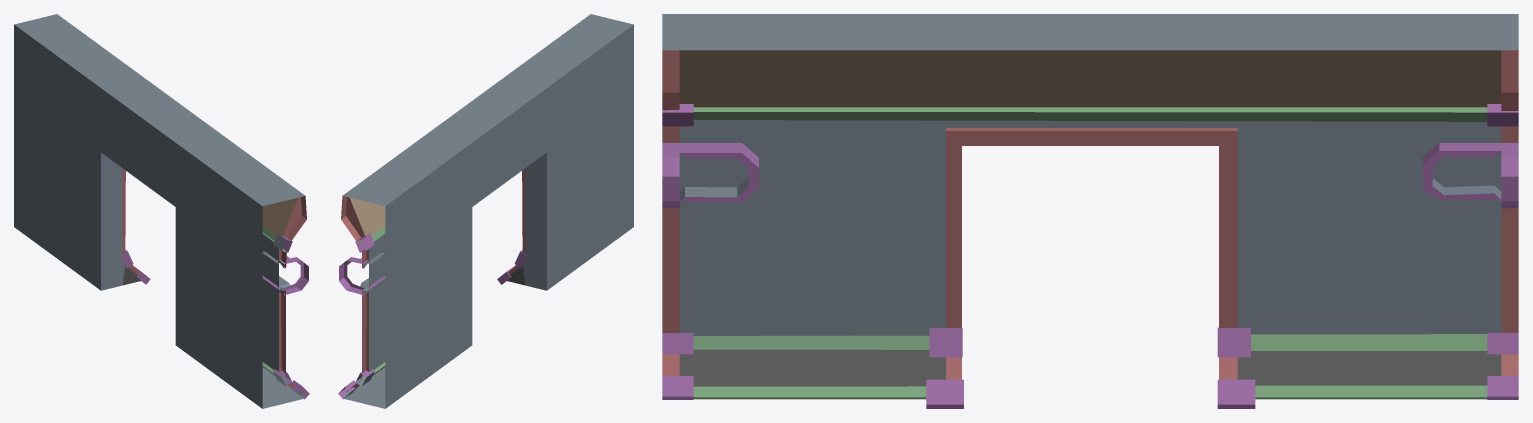
The model's file is Wall_Door.fbx.
3 renders of one model, left to right at view 1: azimuth 30°, elevation 25°; view 2: azimuth 150°, elevation 25°; view 3: azimuth 270°, elevation 25°, orthographic. The views are drawn at different scales.
Visible parts, largest first — view 1: Wall_Door; view 2: Wall_Door; view 3: Wall_Door.
Part boxes in pixels (left/top/right/bottom): Wall_Door: left=14, top=14, right=309, bottom=408; Wall_Door: left=338, top=14, right=633, bottom=408; Wall_Door: left=662, top=14, right=1518, bottom=408.
Bounding box in the file's own units: 114 × 460 × 1000.
